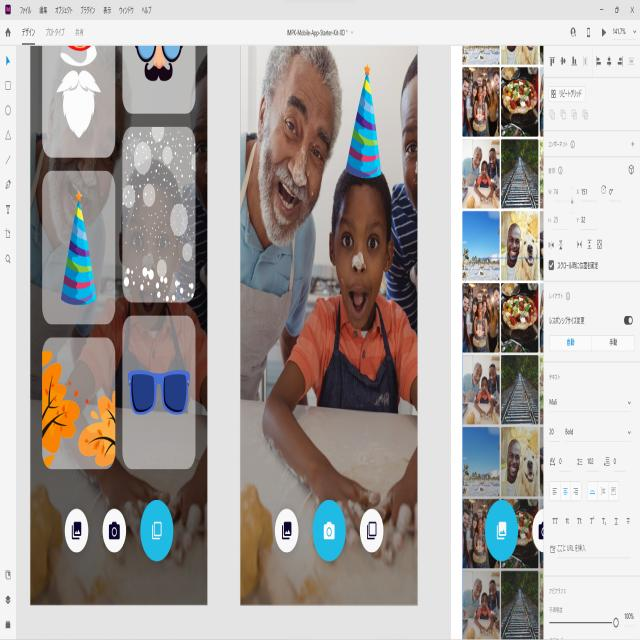checkbox: (548, 259, 554, 272)
toggle: (623, 313, 633, 326)
